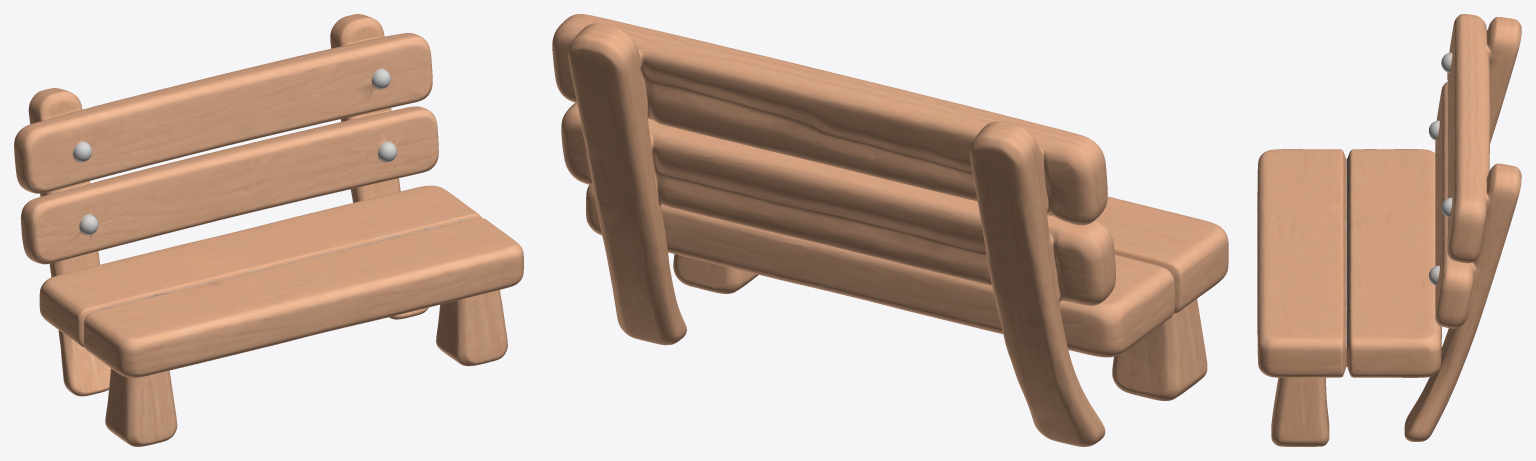
Rendered from chair-low.glb.
3 renders of one model, left to right at view 1: azimuth 30°, elevation 25°; view 2: azimuth 150°, elevation 25°; view 3: azimuth 270°, elevation 25°, orthographic. The views are drawn at different scales.
Visible parts, largest first — view 1: Mesh_0.002; view 2: Mesh_0.002; view 3: Mesh_0.002.
Part boxes in pixels (x1,y1,x2,y2): Mesh_0.002: (14, 14, 523, 446); Mesh_0.002: (552, 14, 1228, 446); Mesh_0.002: (1257, 14, 1521, 446).
Bounding box in the file's own units: 1.9 × 1.18 × 1.07.
1 material, 1 textured.
